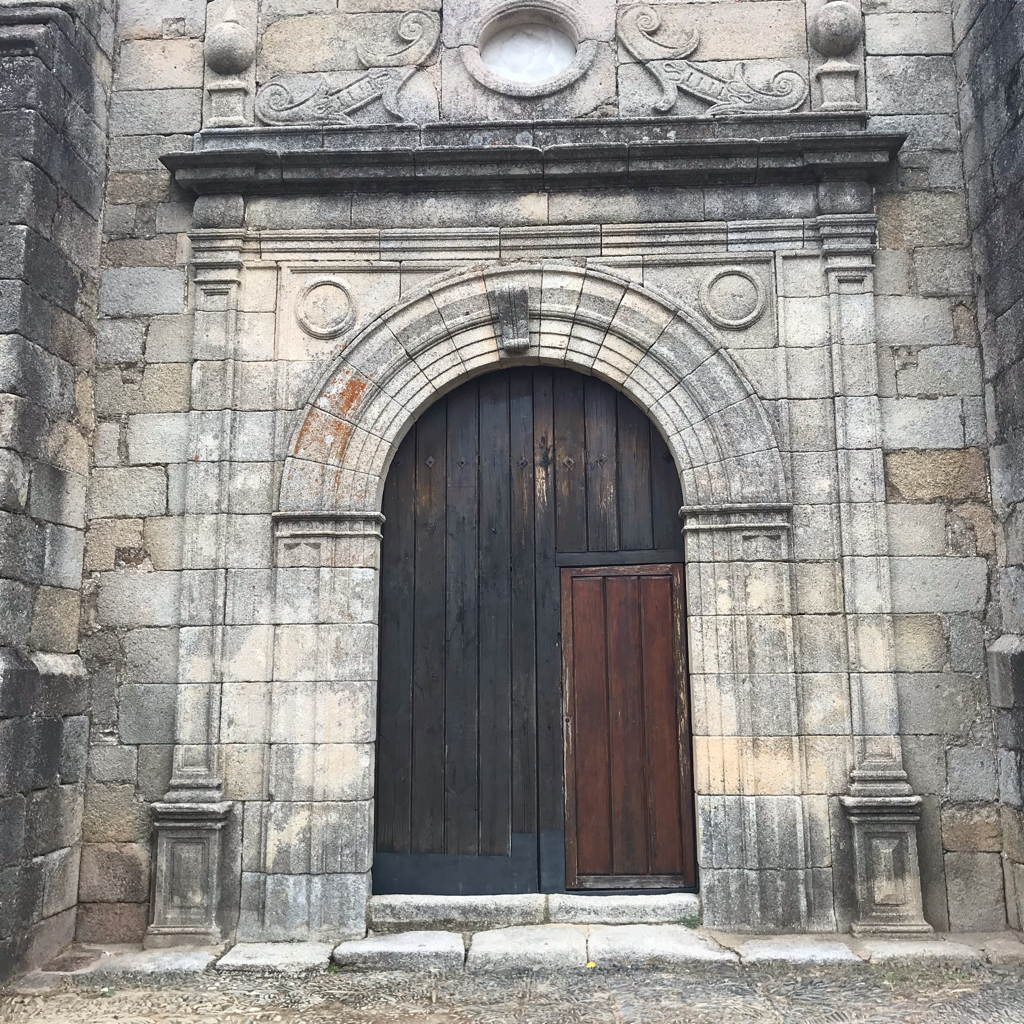arco-medio-punto: (358, 347, 708, 556)
